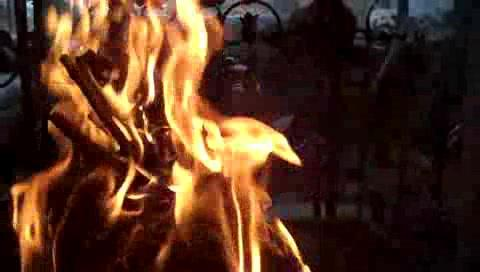fire: (26, 0, 272, 269)
